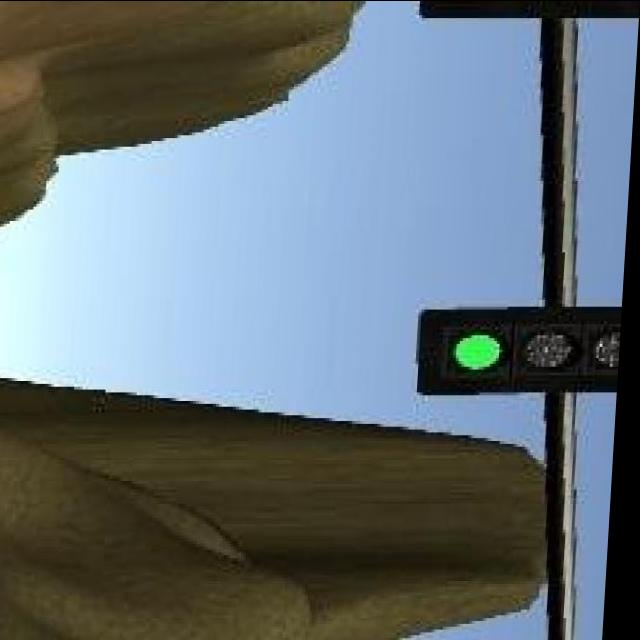green light: (419, 308, 623, 388)
